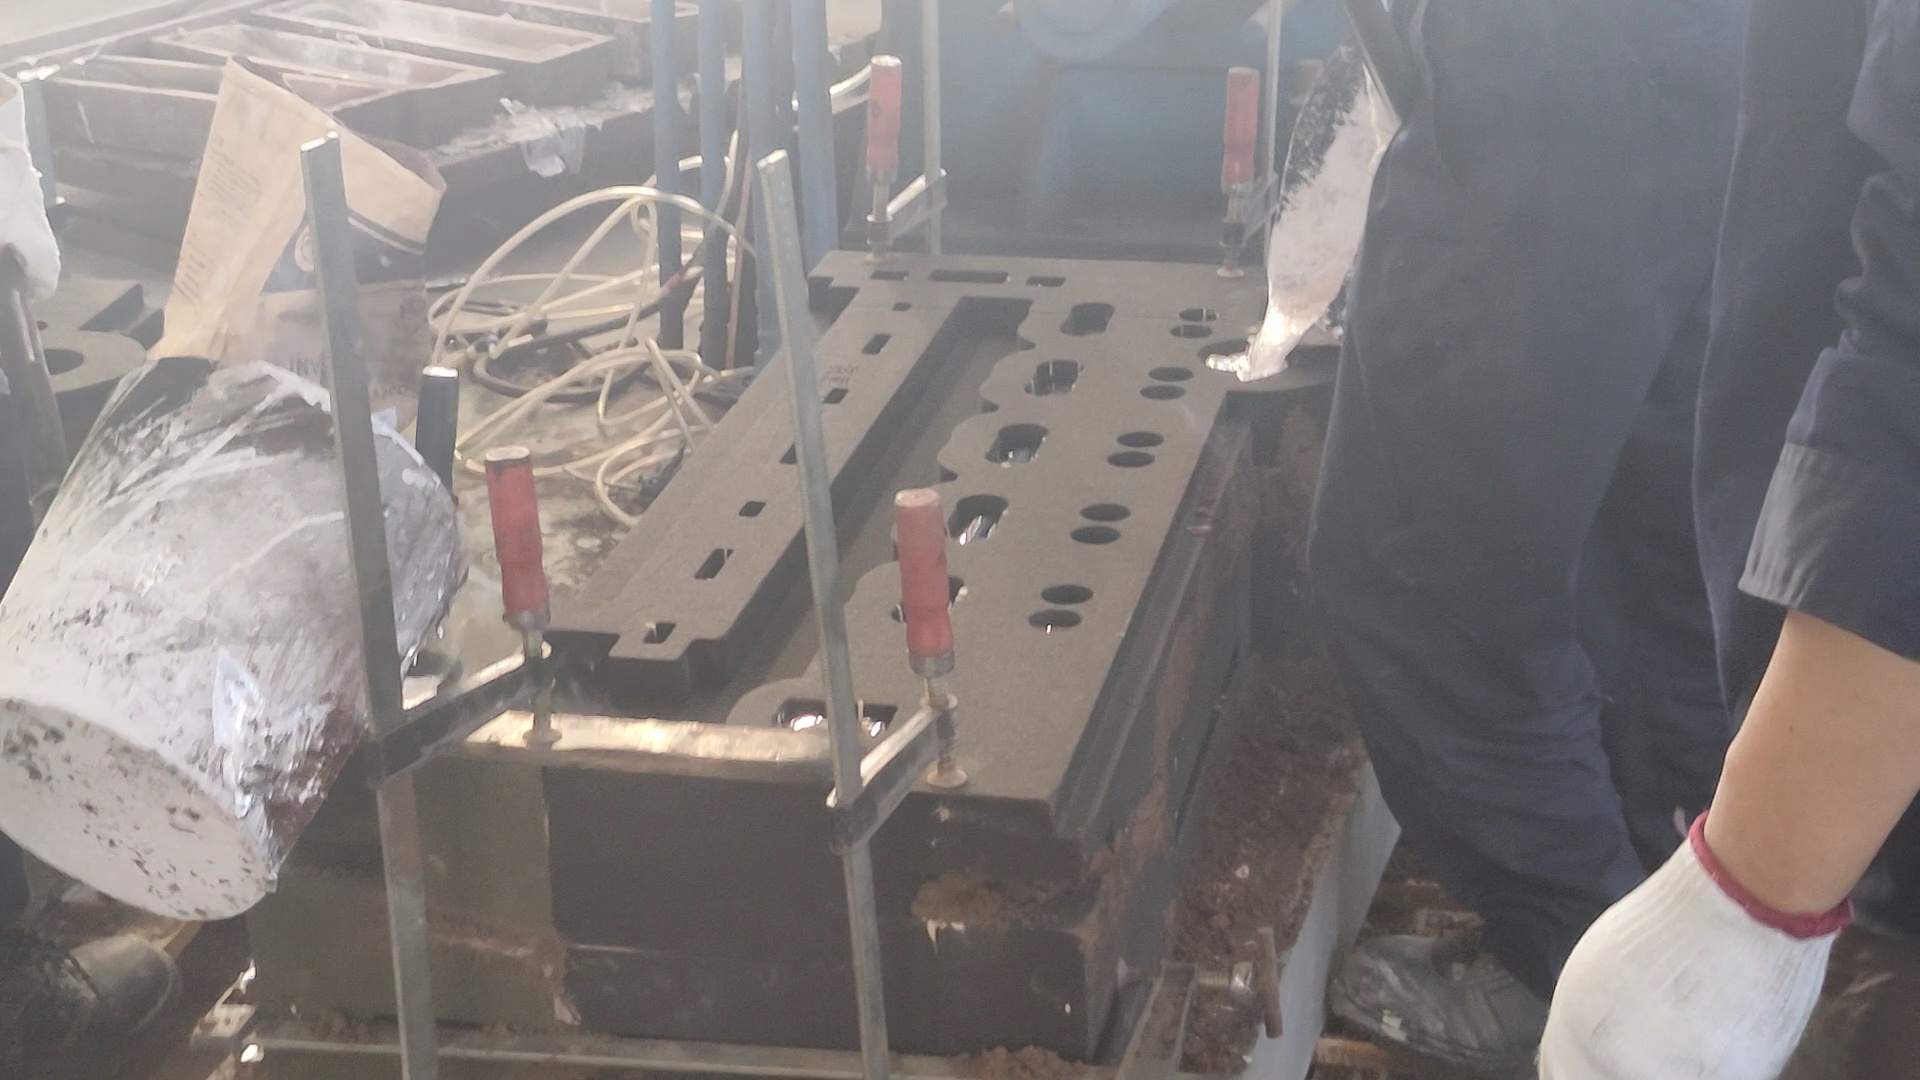pouring hole: (352, 645, 458, 705), (1193, 334, 1295, 377), (1, 342, 88, 381)
